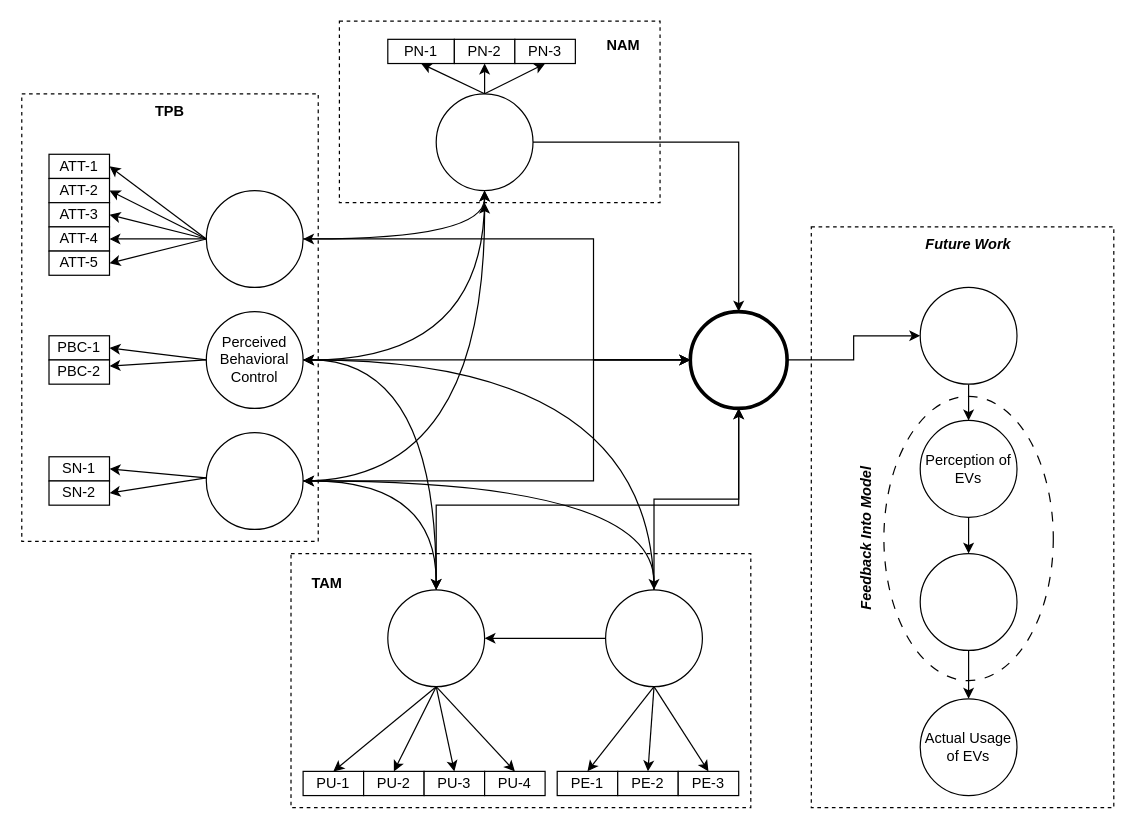
Image size: 1135x829. Some labels were removed from this diagram. The shapes that lost their labels are listed below. From the top down, each one's box as (x1, y1, x2, y2) in pixels, then its label:
(435, 93, 533, 191): Personal Norm
(205, 189, 303, 287): Attitude
(919, 286, 1017, 384): EV Purchase Behavior
(688, 309, 788, 410): EV Purchase Intention
(205, 431, 303, 529): Subjective Norm
(919, 552, 1017, 650): EV Re-purchase Intention
(387, 589, 485, 687): Perceived Usefulness
(604, 589, 702, 687): Perceived Ease of Use
